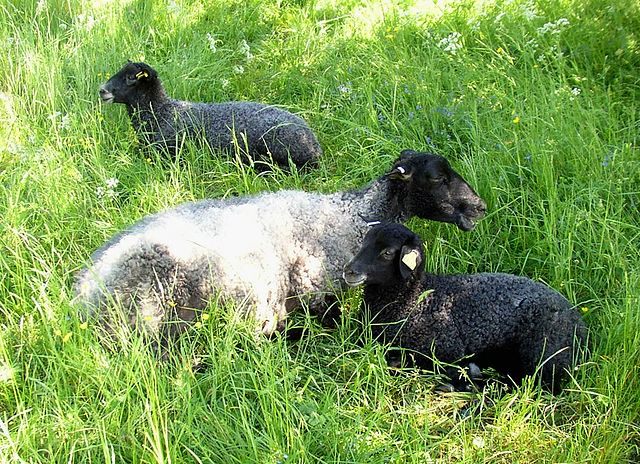resting: (78, 148, 487, 360), (342, 221, 590, 391), (100, 60, 325, 175)
